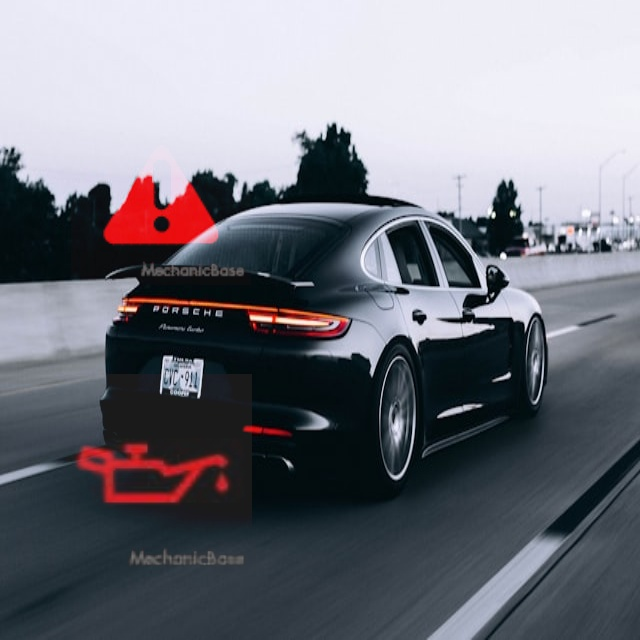symbol: (51, 374, 252, 575), (71, 105, 251, 285)
